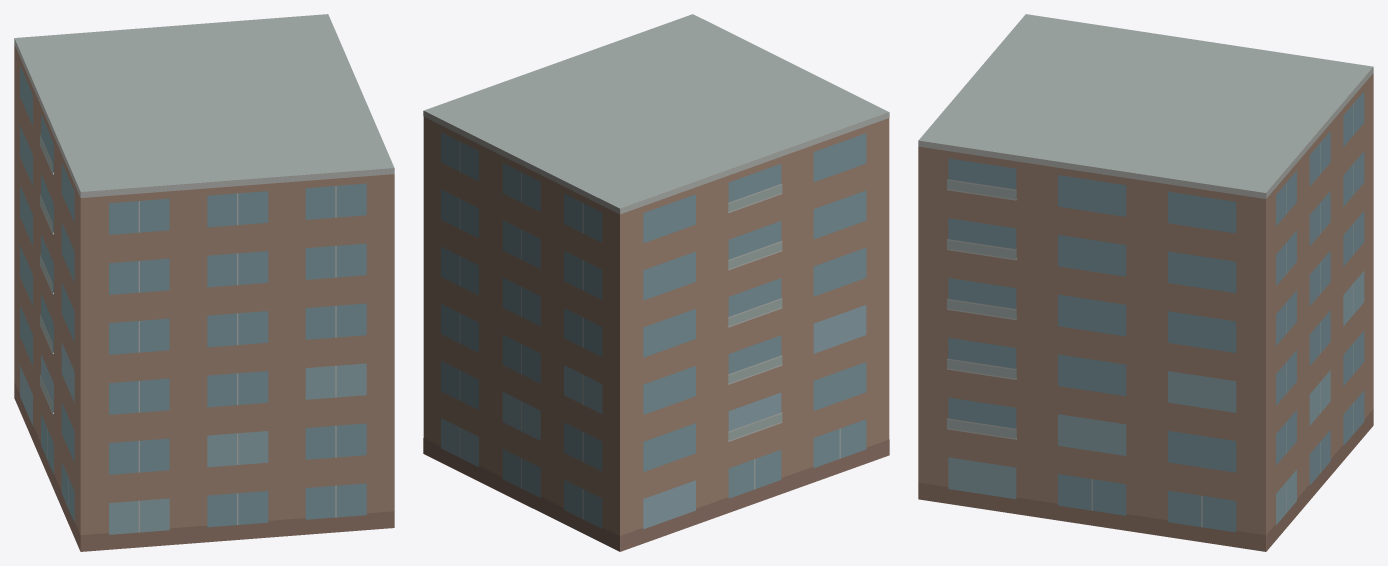
The model's file is survey-upis-32893417.glb.
3 views of the same model, side by side, from view 1: azimuth 30°, elevation 25°; view 2: azimuth 150°, elevation 25°; view 3: azimuth 270°, elevation 25° (orthographic). The views are drawn at different scales.
Parts seen in each view (by area): view 1: survey-upis-32893417.tmp; view 2: survey-upis-32893417.tmp; view 3: survey-upis-32893417.tmp.
Part boxes in pixels (bbox=[...]): survey-upis-32893417.tmp: bbox=[14, 14, 394, 551]; survey-upis-32893417.tmp: bbox=[423, 14, 889, 551]; survey-upis-32893417.tmp: bbox=[918, 14, 1373, 551].
Size of the model in its own units: 15.59 by 14.55 by 16.74.
